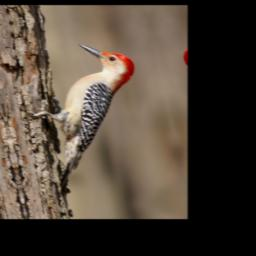Woodpecker: (13, 37, 161, 191)
